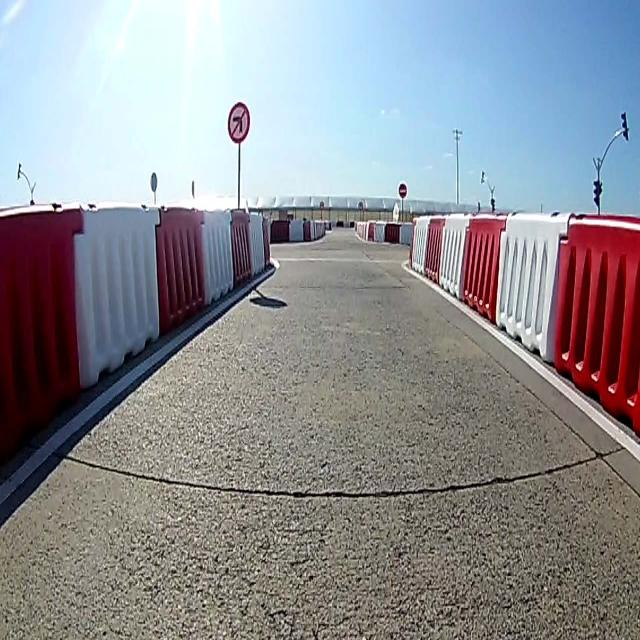girisyok: (398, 182, 408, 198)
soladonulmez: (228, 103, 250, 142)
